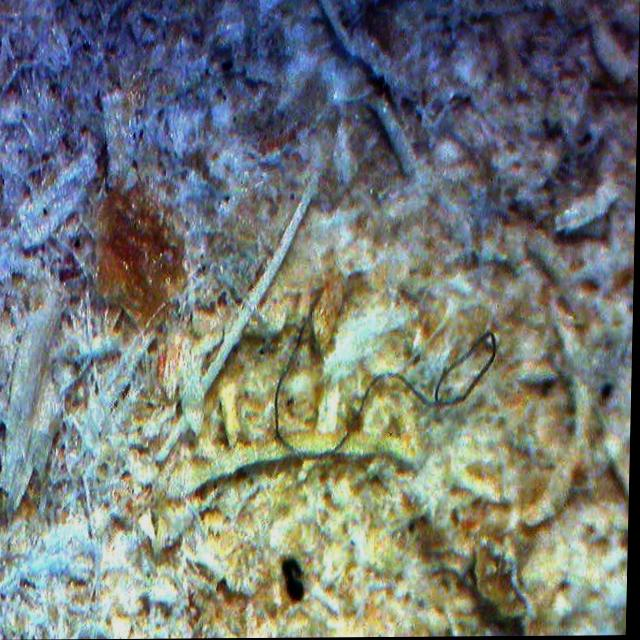microplastic: (273, 290, 499, 462)
